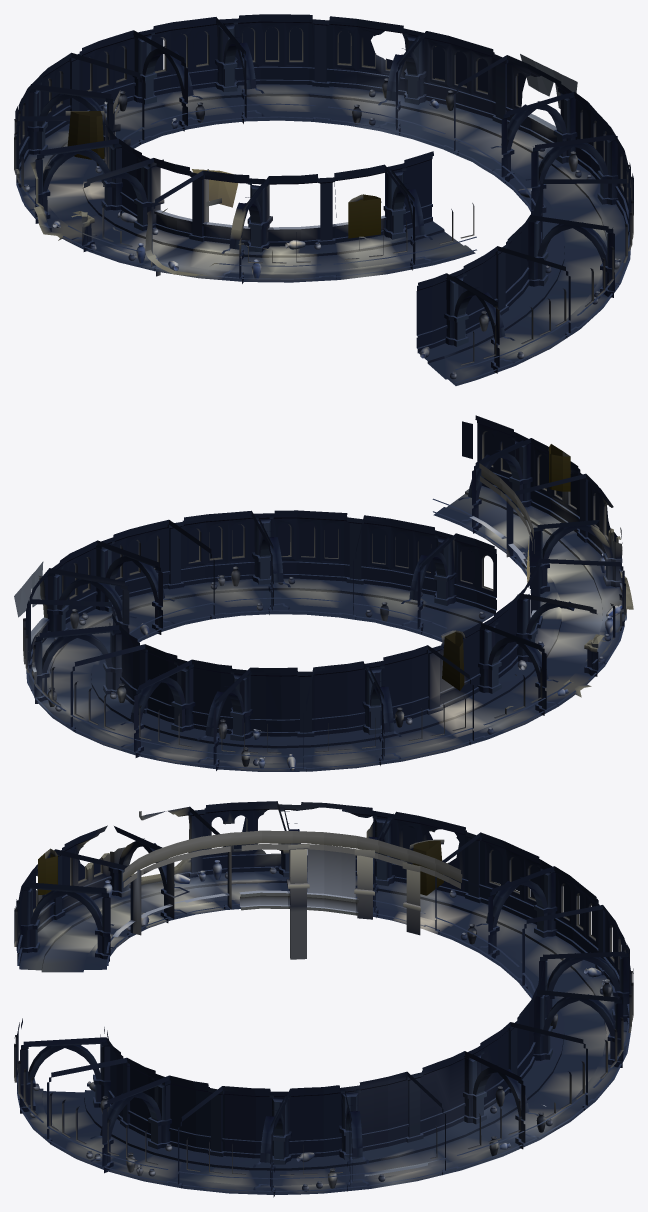
File: 04Ascent.gltf
3 views of the same model, one above another, from view 1: azimuth 30°, elevation 25°; view 2: azimuth 150°, elevation 25°; view 3: azimuth 270°, elevation 25° (orthographic). The views are drawn at different scales.
Visible parts, largest first — view 1: stg011_o03_Mesh_0006, stg011_o03_Mesh_0065, stg011_o03_Mesh_0029, stg011_o03_Mesh_0013, stg011_o03_Mesh_0022, stg011_o03_Mesh_0024, stg011_o03_Mesh_0014, stg011_p03_Mesh_0010, stg011_o03_Mesh_0037, stg011_k_Mesh_0002, stg011_p03_Mesh_0014, stg011_o03_Mesh_0031 (+1 smaller); view 2: stg011_o03_Mesh_0006, stg011_o03_Mesh_0065, stg011_o03_Mesh_0022, stg011_o03_Mesh_0029, stg011_o03_Mesh_0013, stg011_o03_Mesh_0024, stg011_p03_Mesh_0010, stg011_o03_Mesh_0014, stg011_o03_Mesh_0037, stg011_k_Mesh_0002, stg011_o03_Mesh_0034, stg011_o03_Mesh_0031 (+1 smaller); view 3: stg011_o03_Mesh_0006, stg011_o03_Mesh_0065, stg011_o03_Mesh_0022, stg011_o03_Mesh_0029, stg011_o03_Mesh_0013, stg011_o03_Mesh_0000, stg011_o03_Mesh_0024, stg011_o03_Mesh_0014, stg011_o03_Mesh_0037, stg011_p03_Mesh_0010, stg011_k_Mesh_0002, stg011_o03_Mesh_0031 (+1 smaller).
Boxes of the visible parts, x1,y1,x2,y2 form: stg011_o03_Mesh_0006: (14,14,633,382); stg011_o03_Mesh_0065: (47,96,606,379); stg011_o03_Mesh_0029: (19,84,628,385); stg011_o03_Mesh_0013: (38,40,609,379); stg011_o03_Mesh_0022: (17,22,631,335); stg011_o03_Mesh_0024: (16,70,628,347); stg011_o03_Mesh_0014: (19,24,608,315); stg011_p03_Mesh_0010: (14,27,633,213); stg011_o03_Mesh_0037: (23,78,620,379); stg011_k_Mesh_0002: (67,111,380,238); stg011_p03_Mesh_0014: (192,54,577,207); stg011_o03_Mesh_0031: (14,111,556,276); stg011_o03_Mesh_0006: (23,415,626,771); stg011_o03_Mesh_0065: (50,494,602,763); stg011_o03_Mesh_0022: (26,423,618,719); stg011_o03_Mesh_0029: (28,486,624,771); stg011_o03_Mesh_0013: (43,454,611,765); stg011_o03_Mesh_0024: (31,478,626,731); stg011_p03_Mesh_0010: (27,421,617,603); stg011_o03_Mesh_0014: (29,446,612,732); stg011_o03_Mesh_0037: (31,552,622,770); stg011_k_Mesh_0002: (442,444,570,690); stg011_o03_Mesh_0034: (69,431,618,597); stg011_o03_Mesh_0031: (31,449,633,708); stg011_o03_Mesh_0006: (14,801,633,1197); stg011_o03_Mesh_0065: (41,883,606,1185); stg011_o03_Mesh_0022: (16,810,631,1140); stg011_o03_Mesh_0029: (19,871,627,1194); stg011_o03_Mesh_0013: (29,833,618,1188); stg011_o03_Mesh_0000: (122,807,462,911); stg011_o03_Mesh_0024: (17,857,619,1153); stg011_o03_Mesh_0014: (30,815,620,1151); stg011_o03_Mesh_0037: (29,860,611,1191); stg011_p03_Mesh_0010: (14,816,633,982); stg011_k_Mesh_0002: (38,840,443,895); stg011_o03_Mesh_0031: (36,811,546,1176).
Bounding box in the file's own units: 120 × 43.03 × 119.
